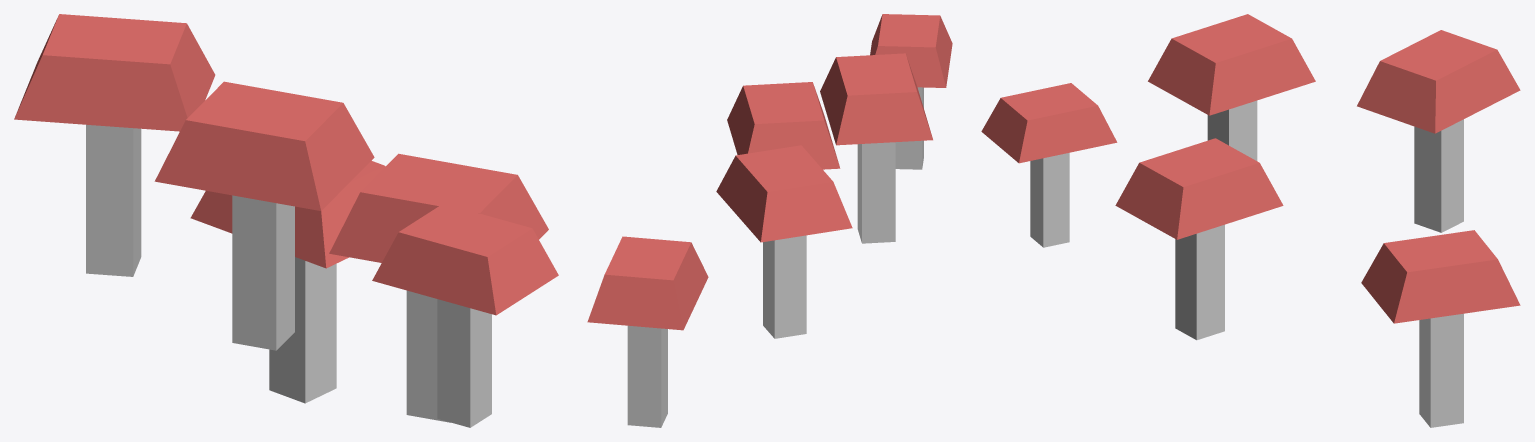
The model's file is mushrooms.fbx.
3 renders of one model, left to right at view 1: azimuth 30°, elevation 25°; view 2: azimuth 150°, elevation 25°; view 3: azimuth 270°, elevation 25°, orthographic. The views are drawn at different scales.
Parts seen in each view (by area): view 1: mushrooms8; view 2: mushrooms8; view 3: mushrooms8.
Part boxes in pixels (box(x1,y1,x2,y2)): mushrooms8: box(14, 14, 558, 427); mushrooms8: box(587, 14, 952, 427); mushrooms8: box(981, 14, 1520, 427).
Size of the model in its own units: 0.3239 by 0.3554 by 0.5516.
